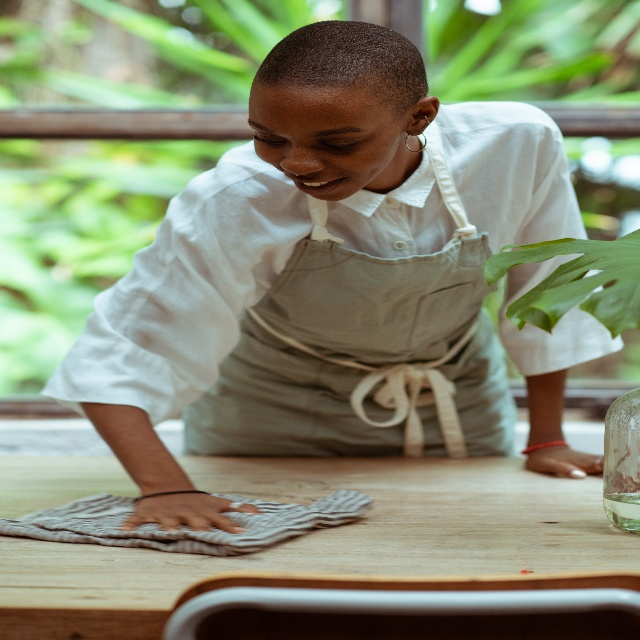Sin_guantes: (122, 492, 266, 529), (526, 439, 608, 479)
